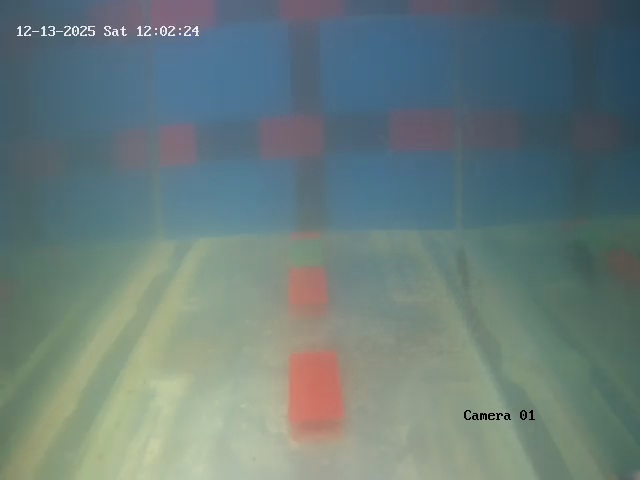fish: (443, 238, 477, 294)
